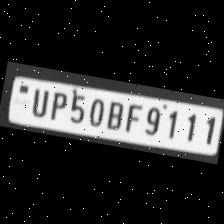0: (84, 92, 107, 126)
1: (196, 110, 219, 146), (178, 107, 200, 142), (160, 104, 182, 138)
5: (64, 88, 88, 124)
9: (138, 102, 164, 136)
B: (102, 96, 125, 130)
F: (120, 100, 142, 133)
P: (45, 86, 68, 121)
U: (25, 84, 51, 116)
